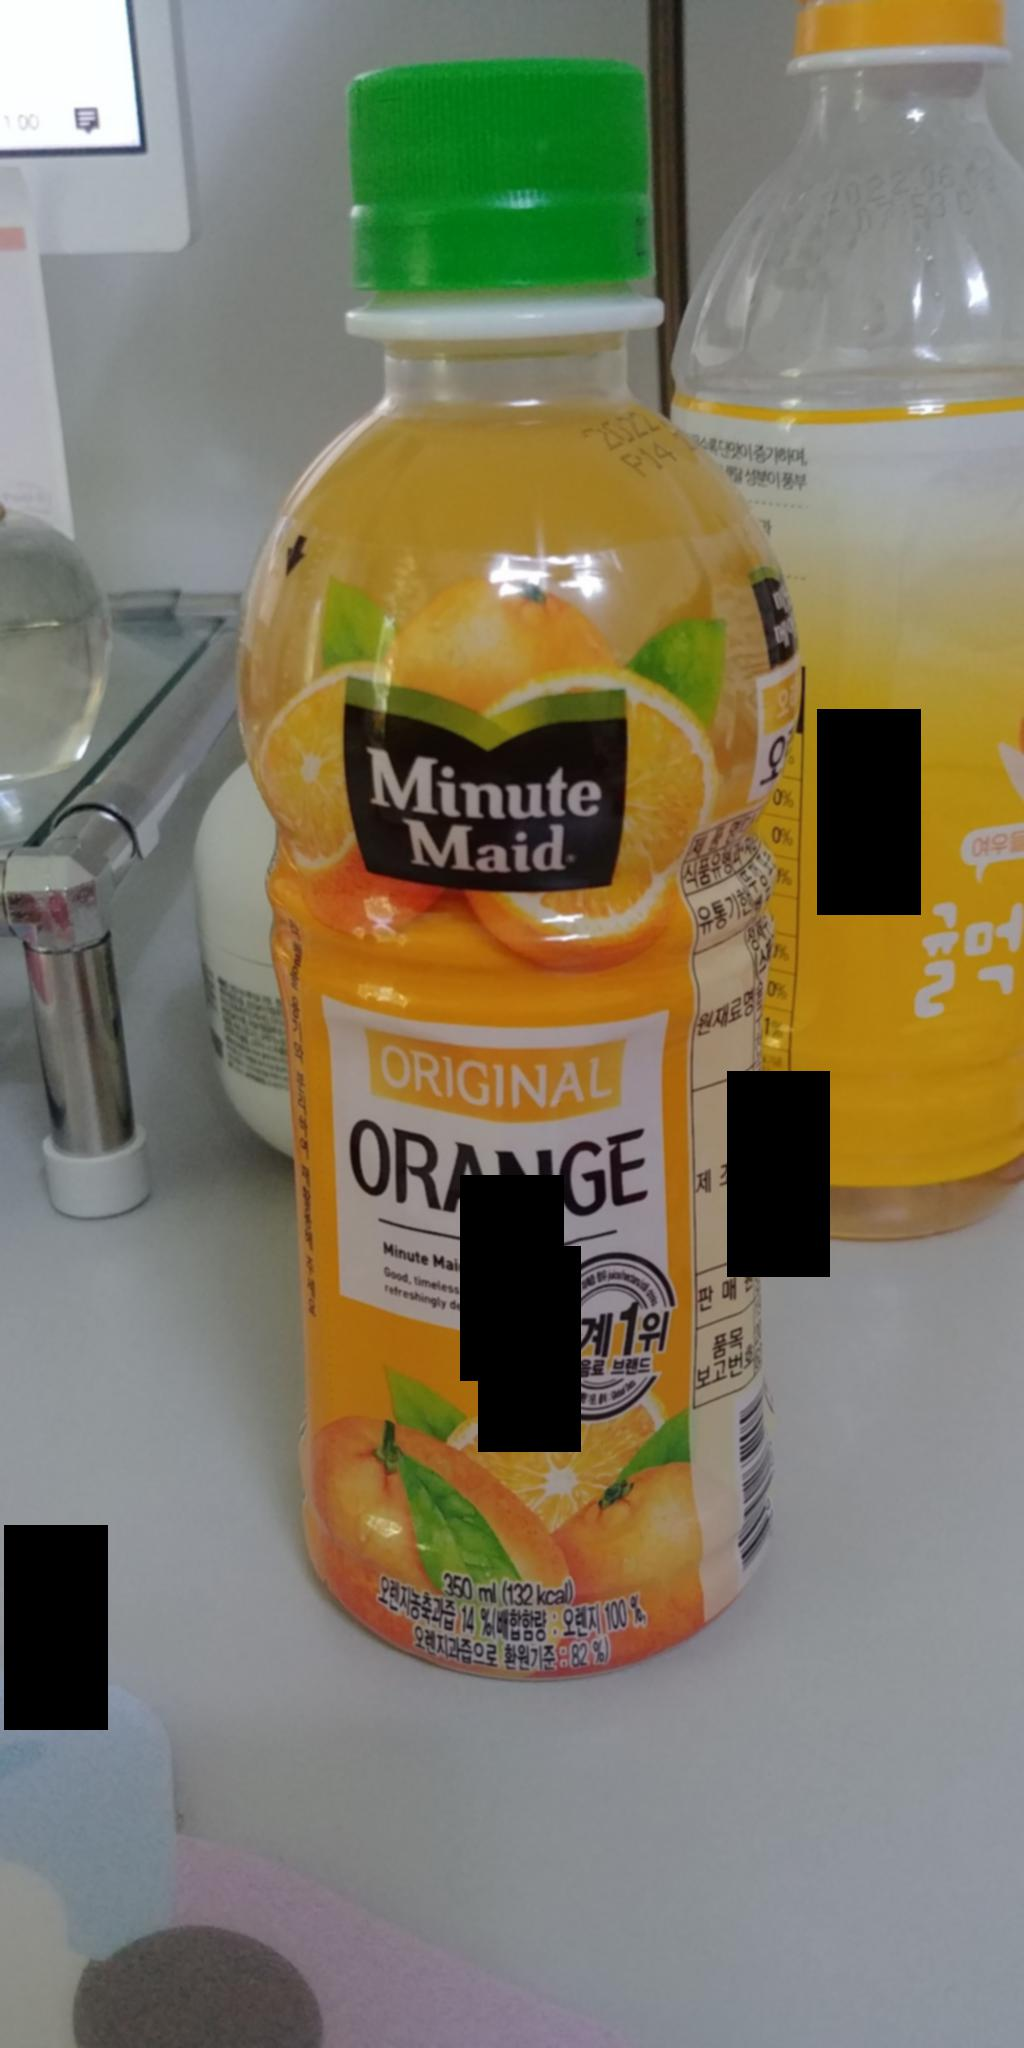minutemaid_org_orange: (223, 64, 841, 1708)
